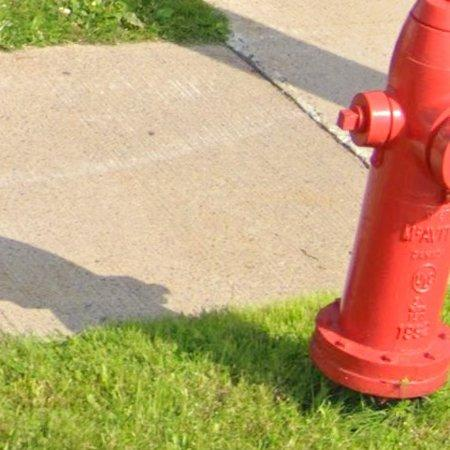a fire hydrant: (311, 0, 450, 400)
